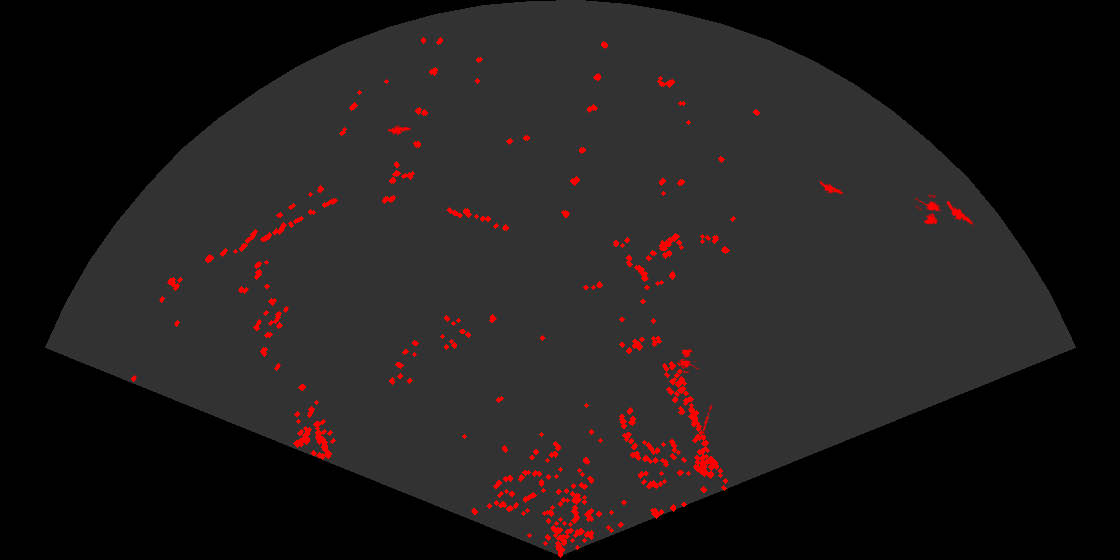cage: (915, 195, 943, 226), (676, 347, 699, 373)
chain: (701, 404, 713, 435)
frogman: (947, 201, 974, 228), (820, 179, 844, 196), (388, 125, 411, 137)
